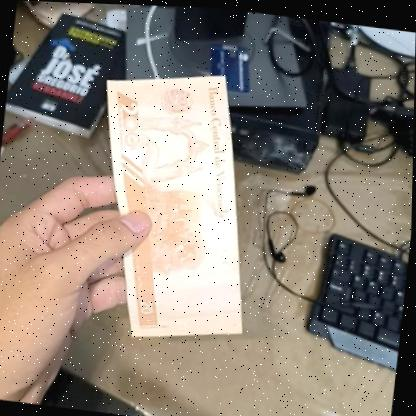twenty-back-vef: (80, 61, 269, 349)
